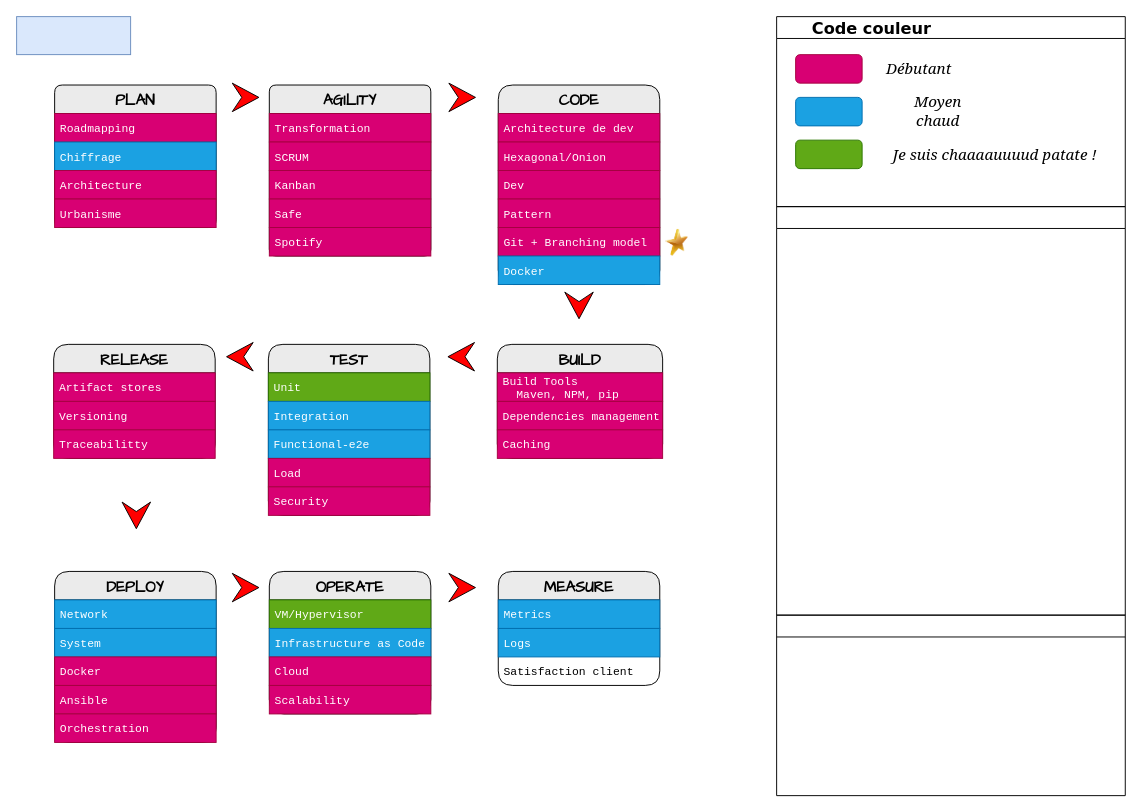
This 1142x812 diagram has some shape labels left out. Each missing label, with the centre of its shape:
Interested: point (950, 705)
Technologies: point (950, 410)
Toi: point (73, 35)
